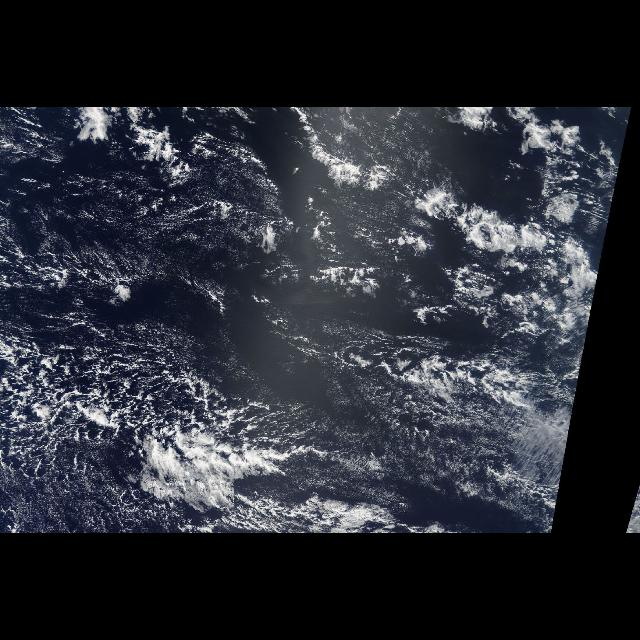Gravel: (303, 320, 561, 480), (1, 327, 208, 478)
Sugar: (2, 127, 278, 305)
